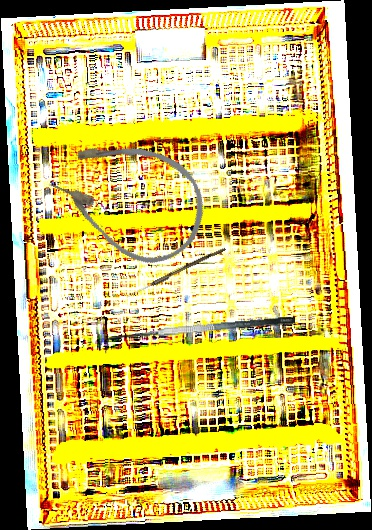Cannula: (36, 114, 222, 280)
Spatula Surgical: (103, 314, 297, 354)
Surgical Spoon: (125, 245, 227, 300)
